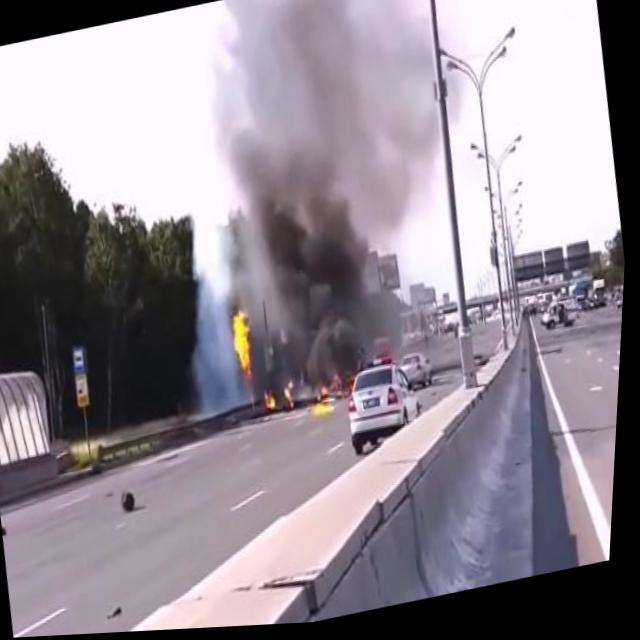fire: (225, 300, 268, 391), (263, 382, 302, 420), (307, 395, 345, 427), (322, 373, 359, 401)
